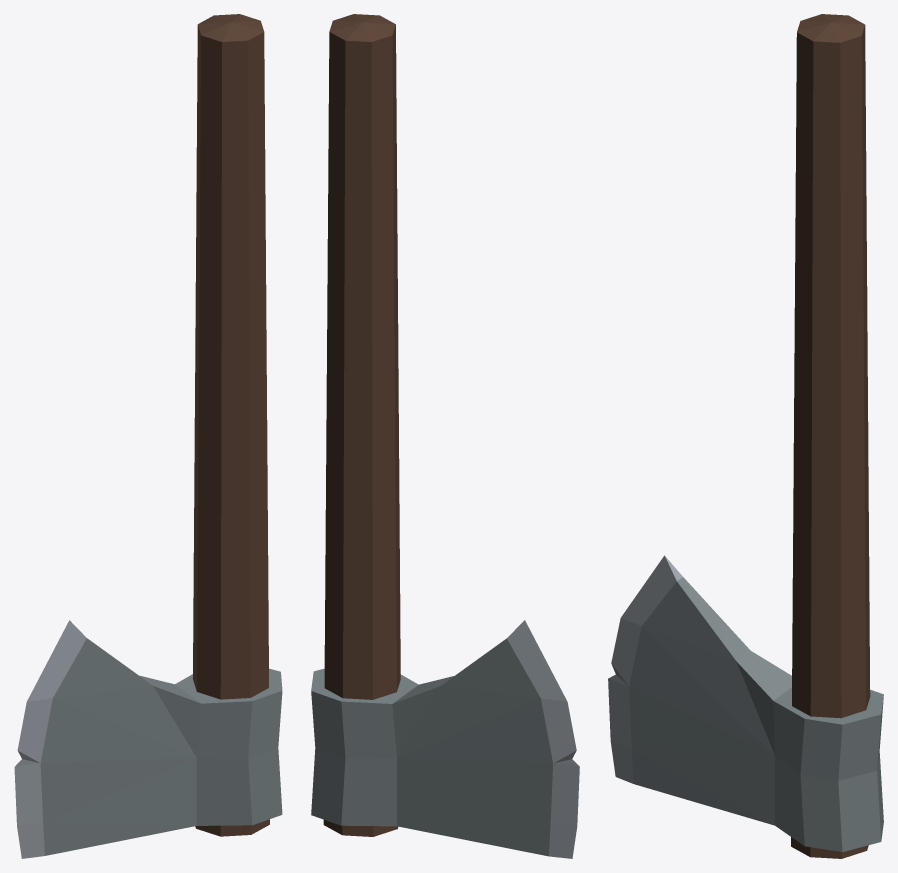
Rendered from PT_Medieval_Waraxe_01.fbx.
The picture shows the model from 3 angles, left to right: view 1: azimuth 30°, elevation 25°; view 2: azimuth 150°, elevation 25°; view 3: azimuth 330°, elevation 25°; orthographic projection. The views are drawn at different scales.
Parts seen in each view (by area): view 1: PT_Medieval_Waraxe_01; view 2: PT_Medieval_Waraxe_01; view 3: PT_Medieval_Waraxe_01.
Part boxes in pixels (x1,y1,x2,y2): PT_Medieval_Waraxe_01: (14, 14, 282, 858); PT_Medieval_Waraxe_01: (311, 14, 579, 858); PT_Medieval_Waraxe_01: (608, 14, 883, 858).
Bounding box in the file's own units: 17.01 × 49.15 × 5.19.
